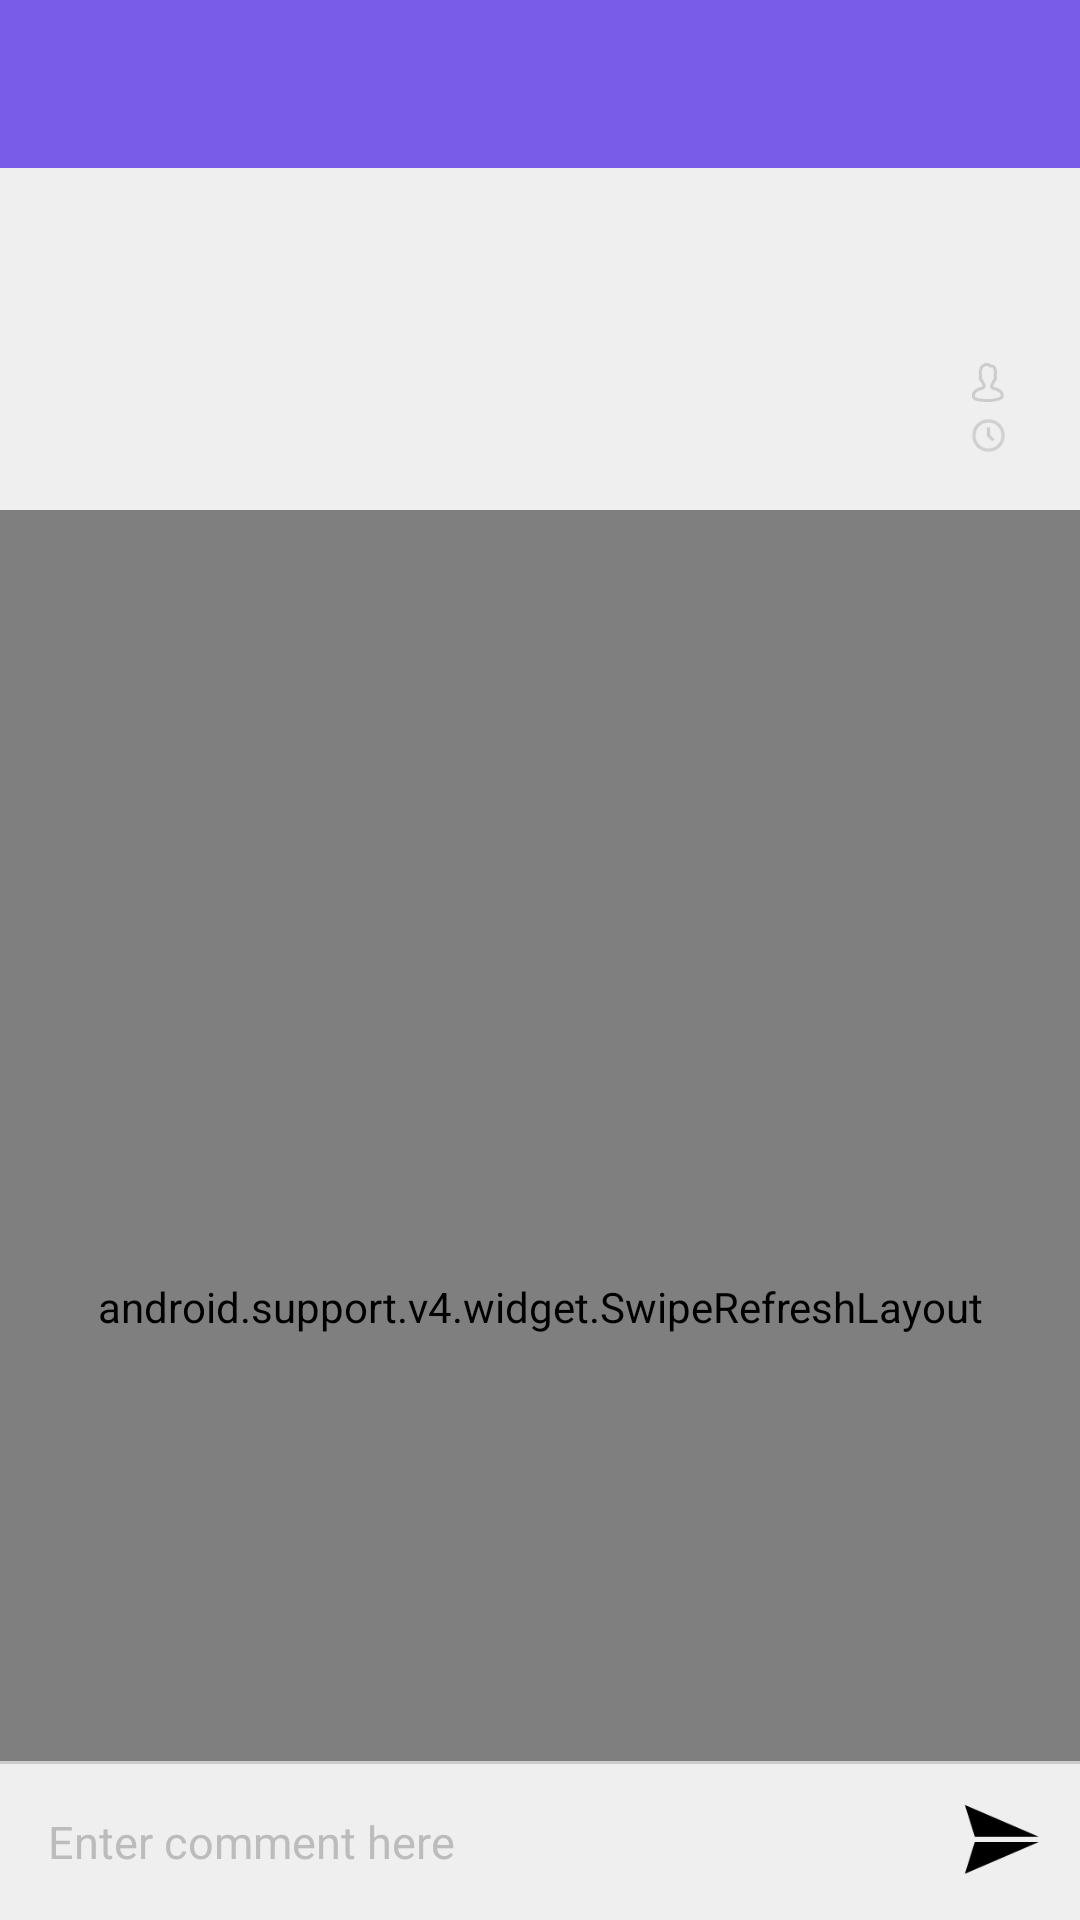

Locate icon controls on the screen. Image size 1080×1920, boxes as [x1,y1,x2,y2].
send: [965,1805,1039,1874]
